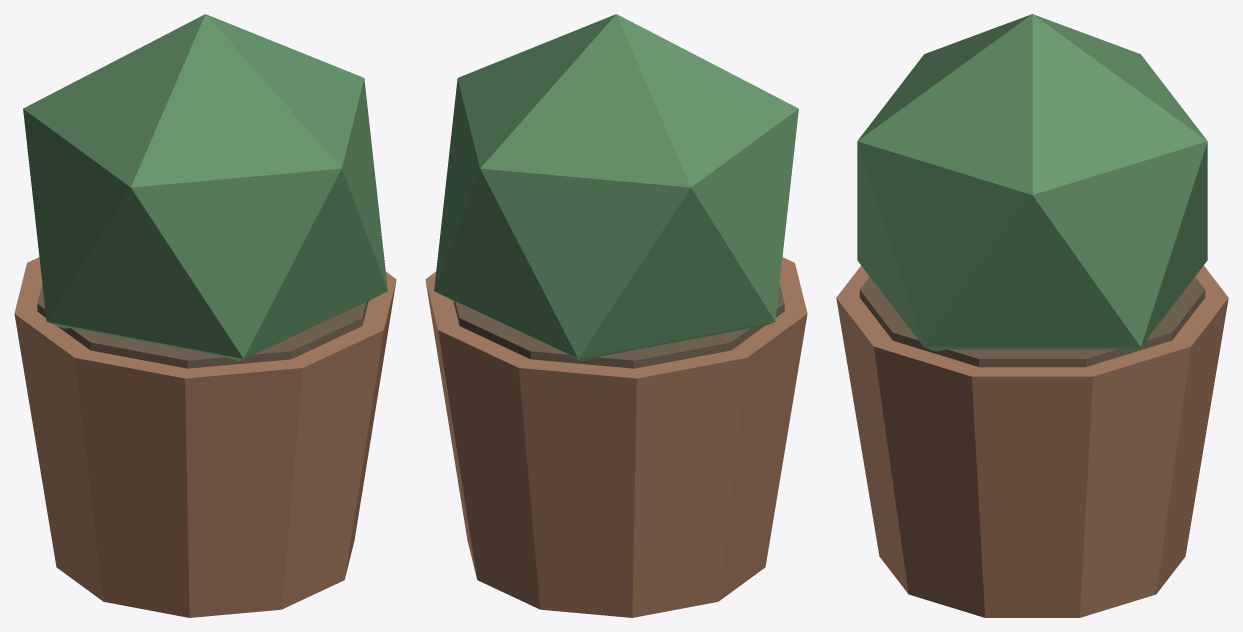
File: pla_vaso_sala1.glb
3 renders of one model, left to right at view 1: azimuth 30°, elevation 25°; view 2: azimuth 150°, elevation 25°; view 3: azimuth 270°, elevation 25°, orthographic.
Visible parts, largest first — view 1: PLA_VASO_SALA1_v01; view 2: PLA_VASO_SALA1_v01; view 3: PLA_VASO_SALA1_v01.
Boxes of the visible parts, bbox=[...] form: PLA_VASO_SALA1_v01: bbox=[14, 14, 396, 617]; PLA_VASO_SALA1_v01: bbox=[425, 14, 807, 617]; PLA_VASO_SALA1_v01: bbox=[836, 14, 1228, 617].
Size of the model in its own units: 0.4185 by 0.671 by 0.44.
